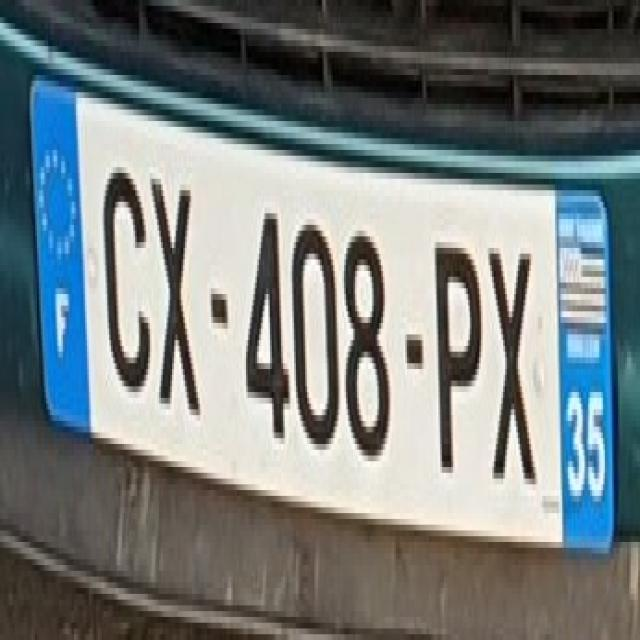EU: (28, 69, 618, 547)
France: (31, 76, 91, 438)
